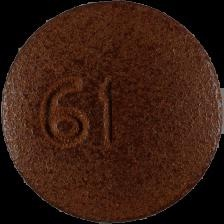51293-612: (0, 0, 224, 224)
